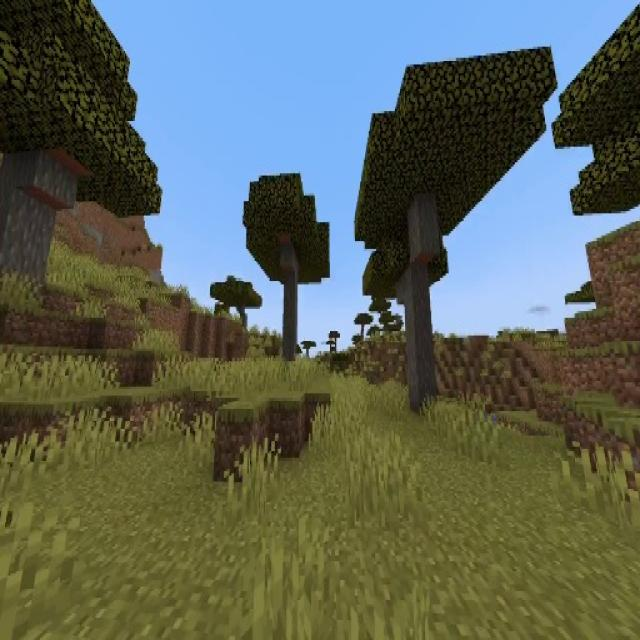acacia: (357, 45, 556, 415), (0, 0, 161, 285), (242, 174, 329, 357)
acacia_log: (0, 151, 70, 283), (408, 196, 436, 404), (281, 258, 298, 356)
